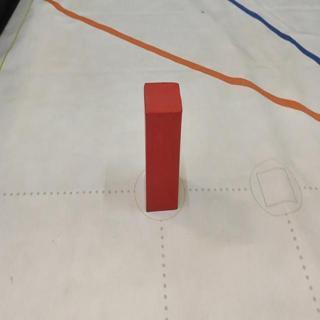redbox: (142, 81, 183, 212)
